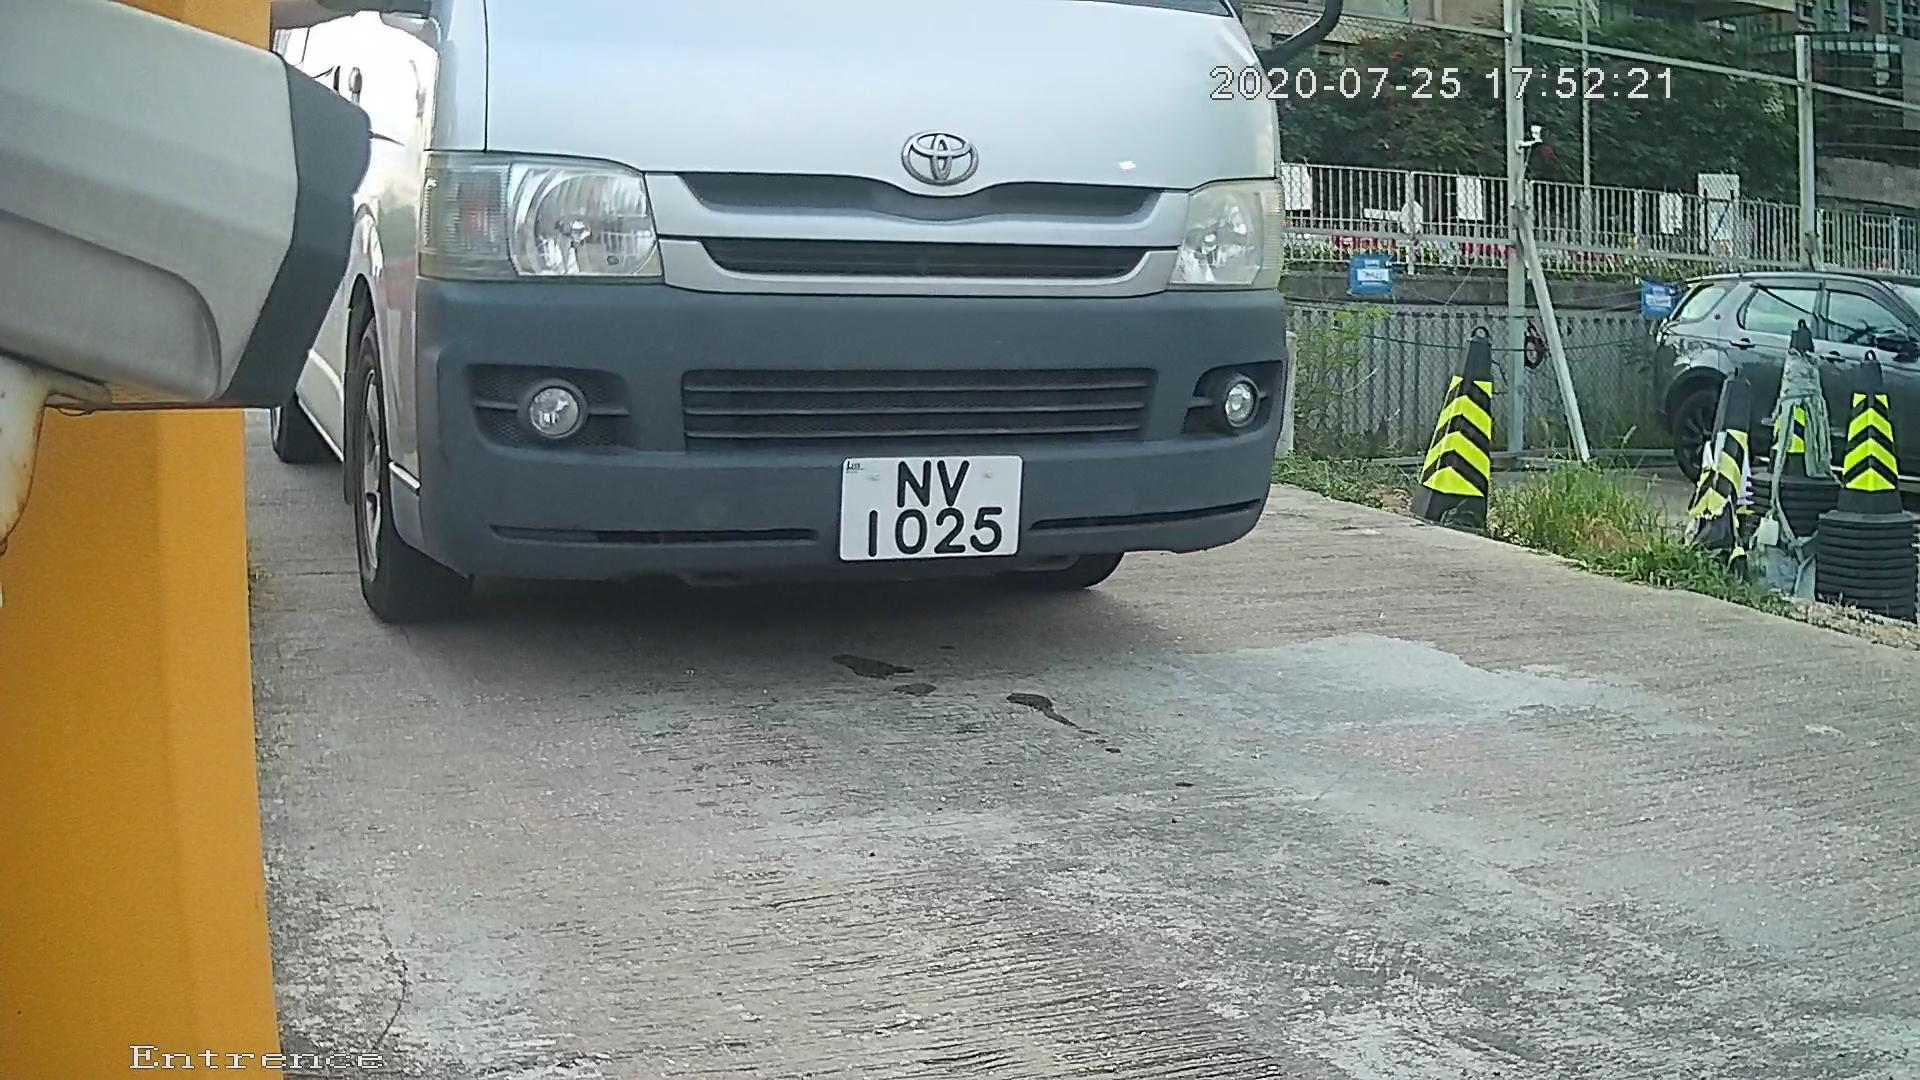privatecar: (262, 3, 1382, 670)
